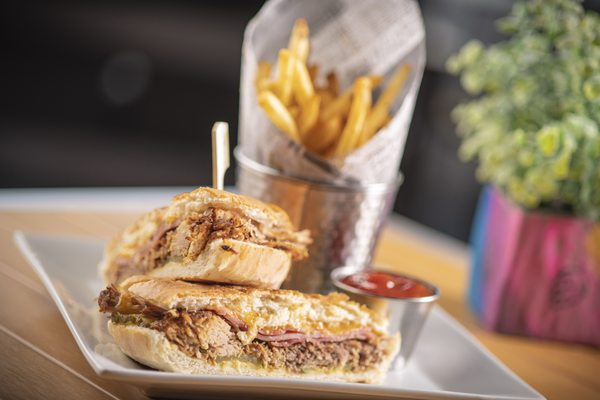curry: (446, 1, 600, 220)
pizza: (231, 0, 428, 292), (233, 146, 395, 292), (331, 267, 440, 370)
soup: (99, 184, 401, 382), (101, 275, 399, 382), (98, 186, 313, 301)
